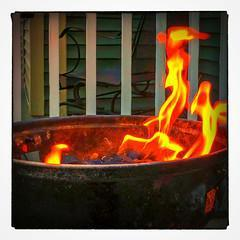fire: (21, 13, 225, 184)
